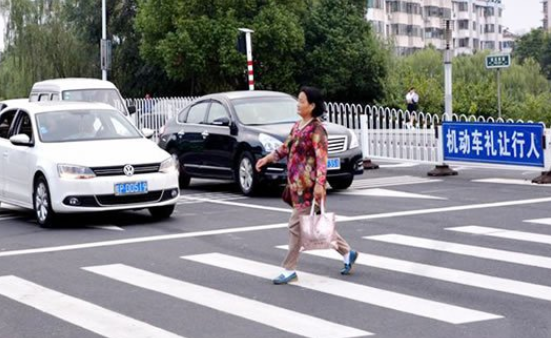car: (1, 94, 181, 227), (158, 90, 367, 197), (1, 77, 133, 124)
person: (254, 91, 363, 286), (405, 88, 419, 122), (532, 169, 551, 184)
sign: (442, 123, 544, 166), (487, 54, 510, 68)
